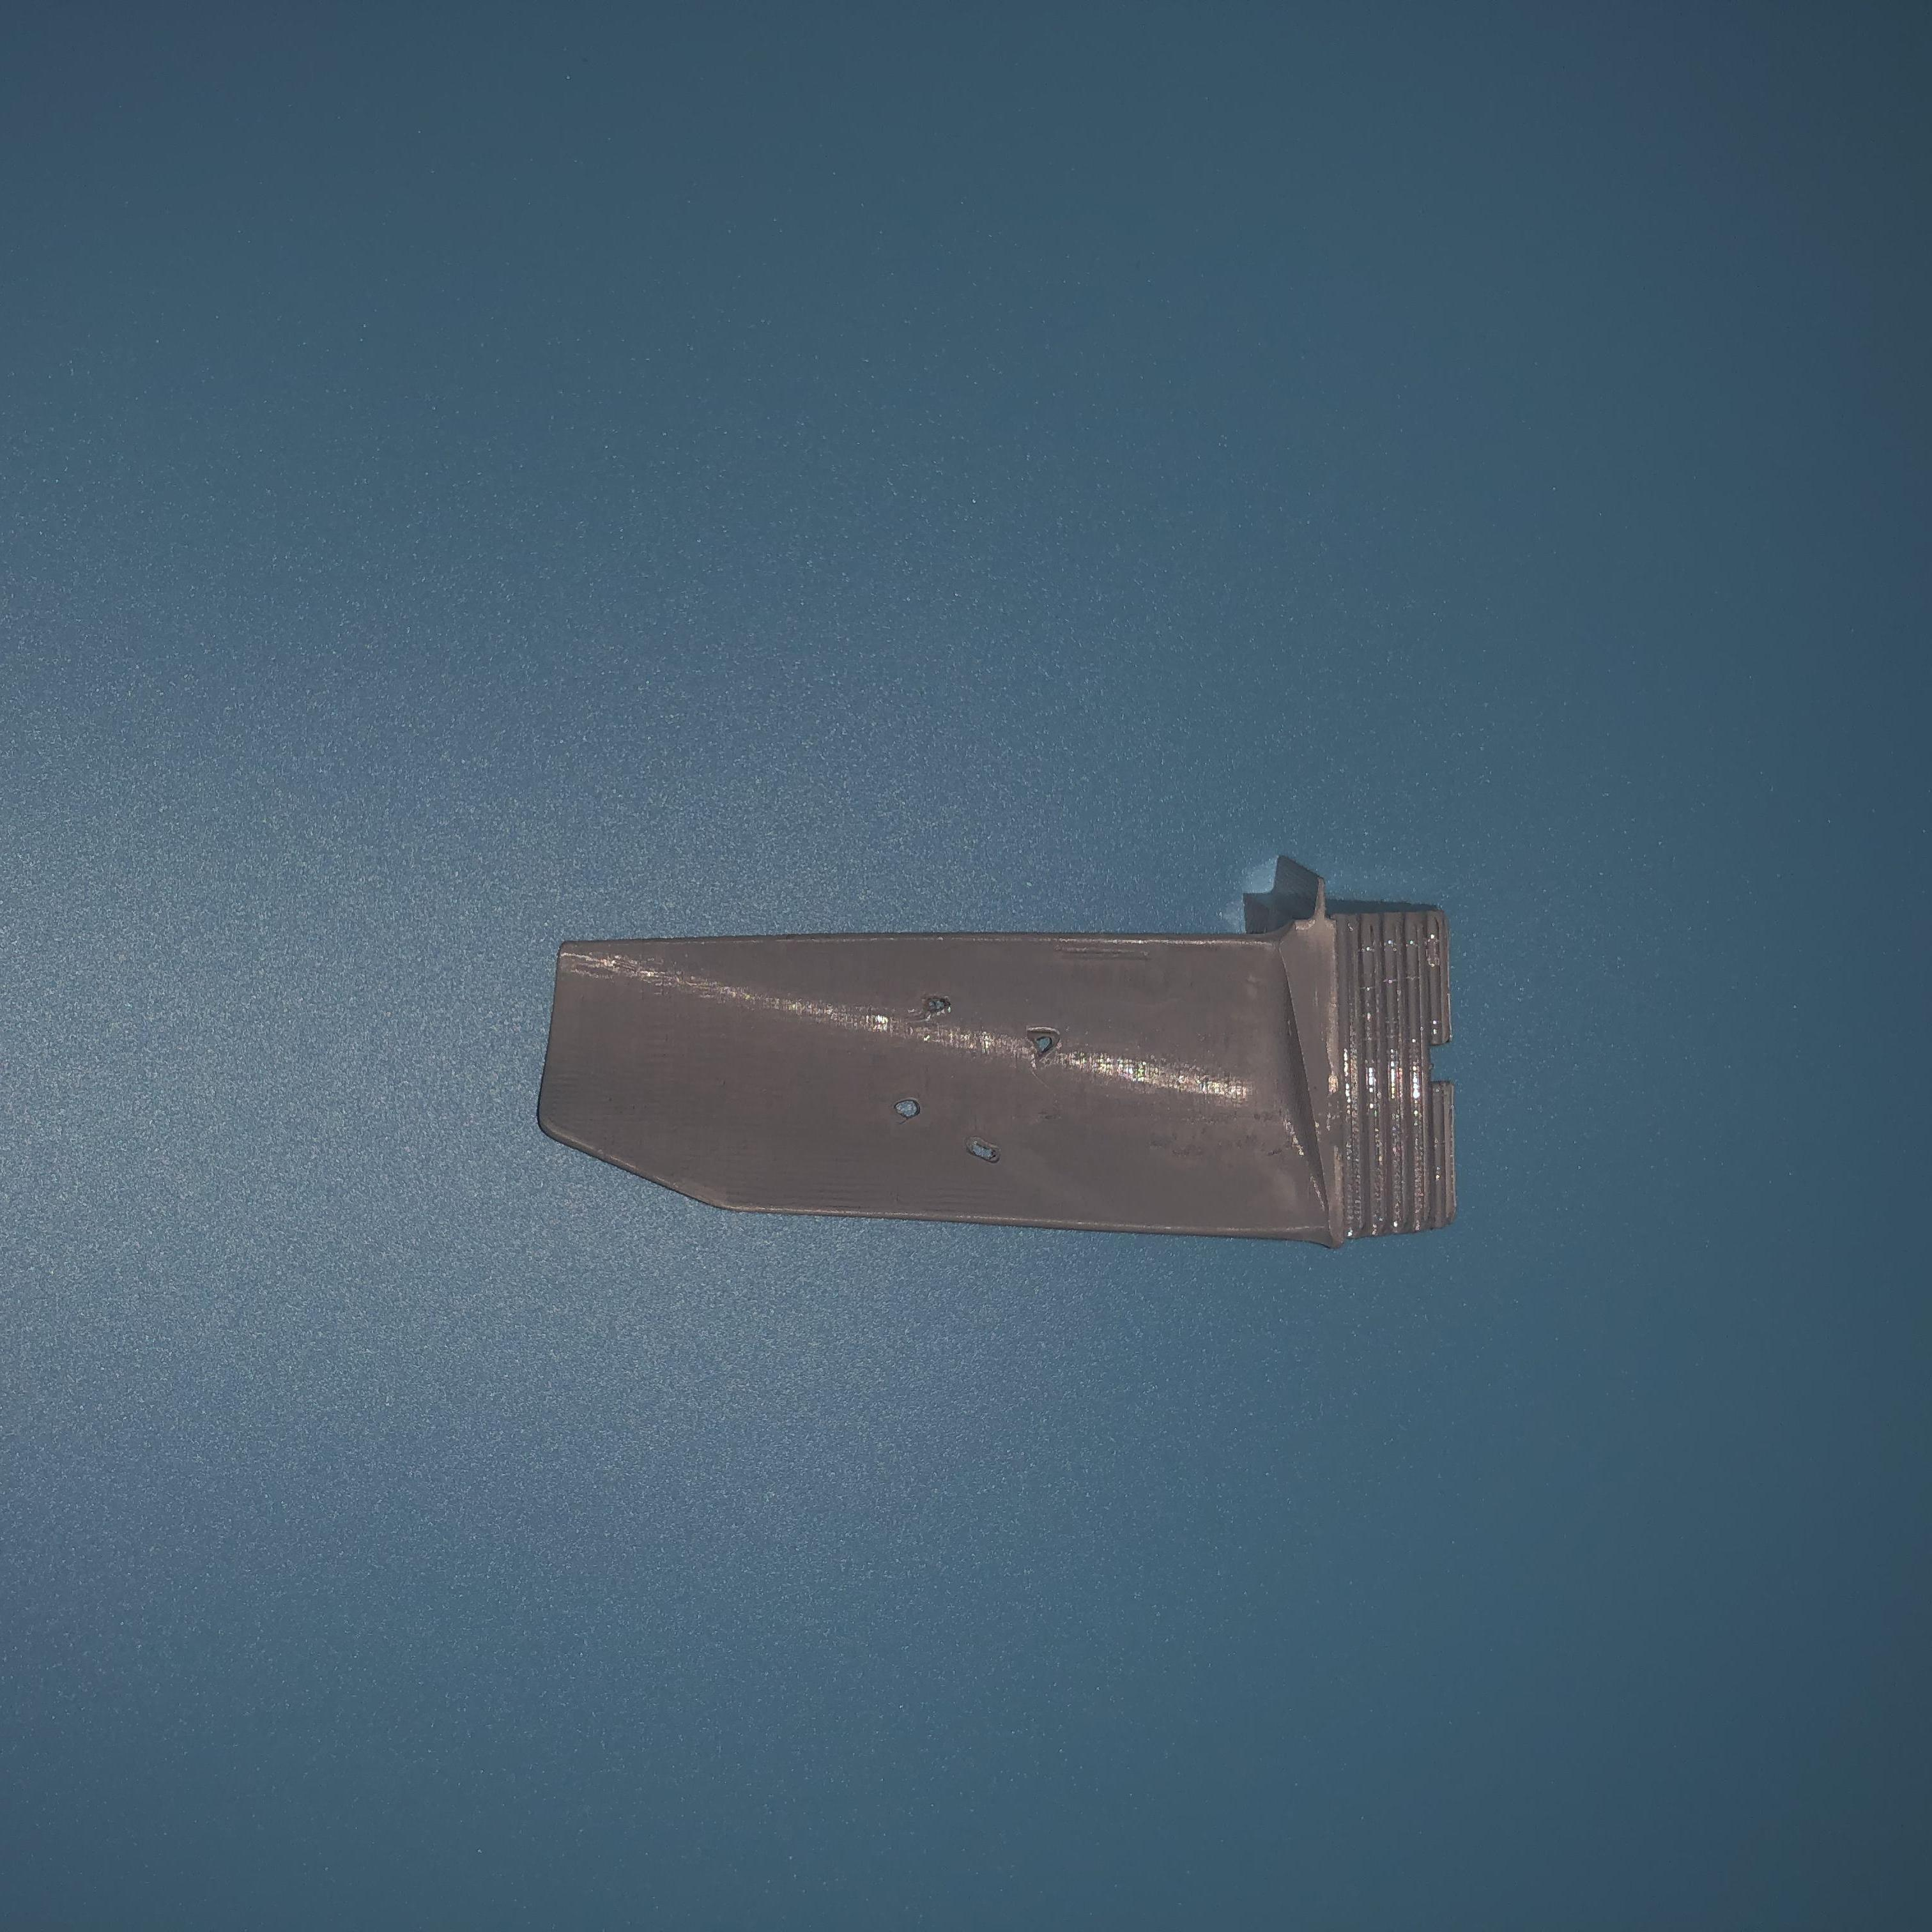breakdown: (901, 985, 1053, 1168)
